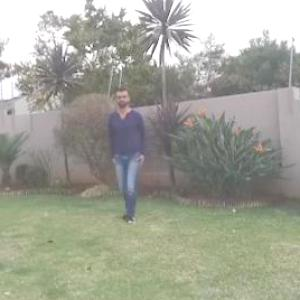follow: (110, 87, 146, 213)
